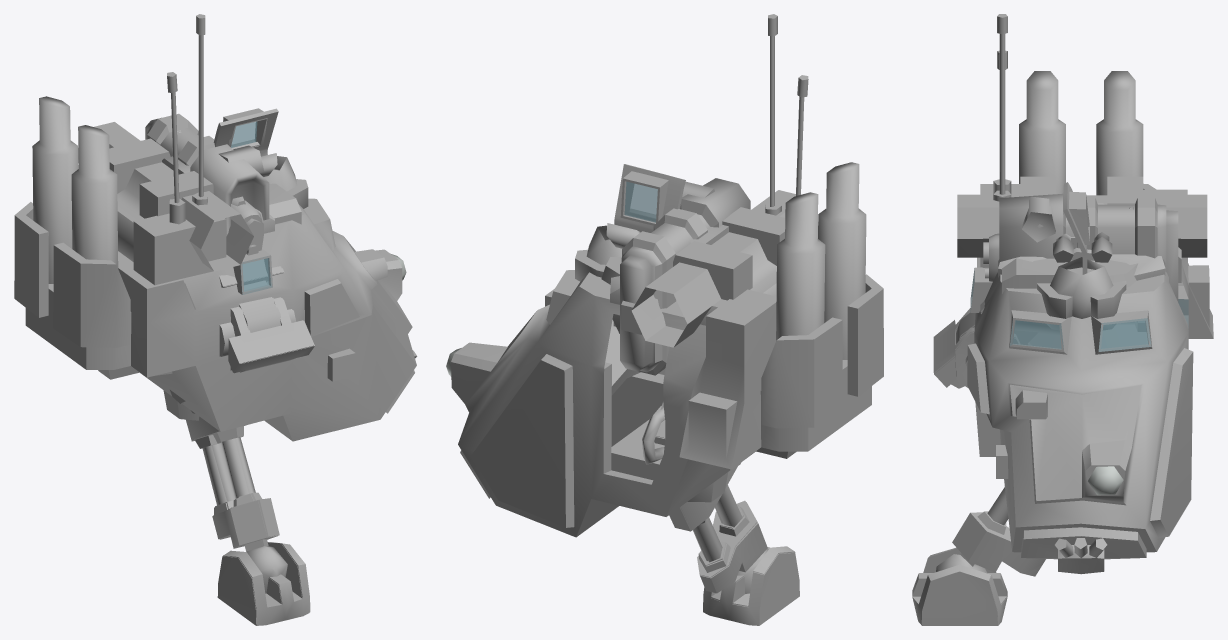
File: sentinel_plasma_rocket-00i7c21.glb
The picture shows the model from 3 angles, left to right: view 1: azimuth 30°, elevation 25°; view 2: azimuth 150°, elevation 25°; view 3: azimuth 270°, elevation 25°; orthographic projection. The views are drawn at different scales.
Parts seen in each view (by area): view 1: turret, turret_interior, body, gun1, legr3, legl2, legl3, legl4, legr4, door, legl1, gun_rot_melta (+2 smaller); view 2: turret, turret_interior, body, gun1, legr3, legr4, door, legl3, legl4; view 3: turret, turret_interior, body, gun1, legl4, legl3, gun_rot_melta, door, legr2, legl2, gun, legl1 (+1 smaller).
Boxes of the visible parts, box(x1,y1,x2,y2) form: turret: box(14, 14, 417, 441); turret_interior: box(14, 97, 415, 440); body: box(78, 122, 308, 271); gun1: box(145, 113, 269, 281); legr3: box(191, 425, 278, 593); legl2: box(170, 297, 313, 413); legl3: box(186, 416, 287, 577); legl4: box(223, 542, 310, 625); legr4: box(217, 543, 309, 625); door: box(213, 108, 278, 156); legl1: box(219, 259, 282, 332); gun_rot_melta: box(269, 183, 301, 224); turret: box(446, 14, 883, 537); turret_interior: box(451, 163, 883, 537); body: box(575, 190, 818, 347); gun1: box(620, 178, 750, 375); legr3: box(642, 419, 767, 593); legr4: box(703, 552, 799, 625); door: box(613, 164, 685, 326); legl3: box(642, 408, 768, 577); legl4: box(703, 546, 799, 607); turret: box(967, 14, 1213, 574); turret_interior: box(967, 71, 1213, 558); body: box(957, 176, 1207, 329); gun1: box(999, 193, 1178, 334); legl4: box(912, 547, 1006, 625); legl3: box(936, 487, 1045, 573); gun_rot_melta: box(1002, 258, 1070, 293); door: box(1063, 182, 1089, 274); legr2: box(934, 321, 1029, 388); legl2: box(933, 308, 1031, 373); gun: box(983, 207, 1181, 282); legl1: box(956, 248, 1094, 343).
Size of the model in its own units: 46.98 by 70.9 by 33.56.
